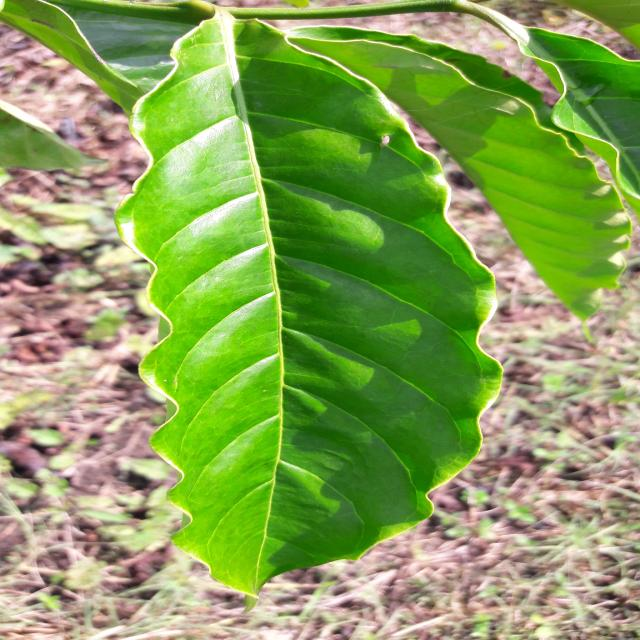Sanas: (114, 11, 502, 600)
